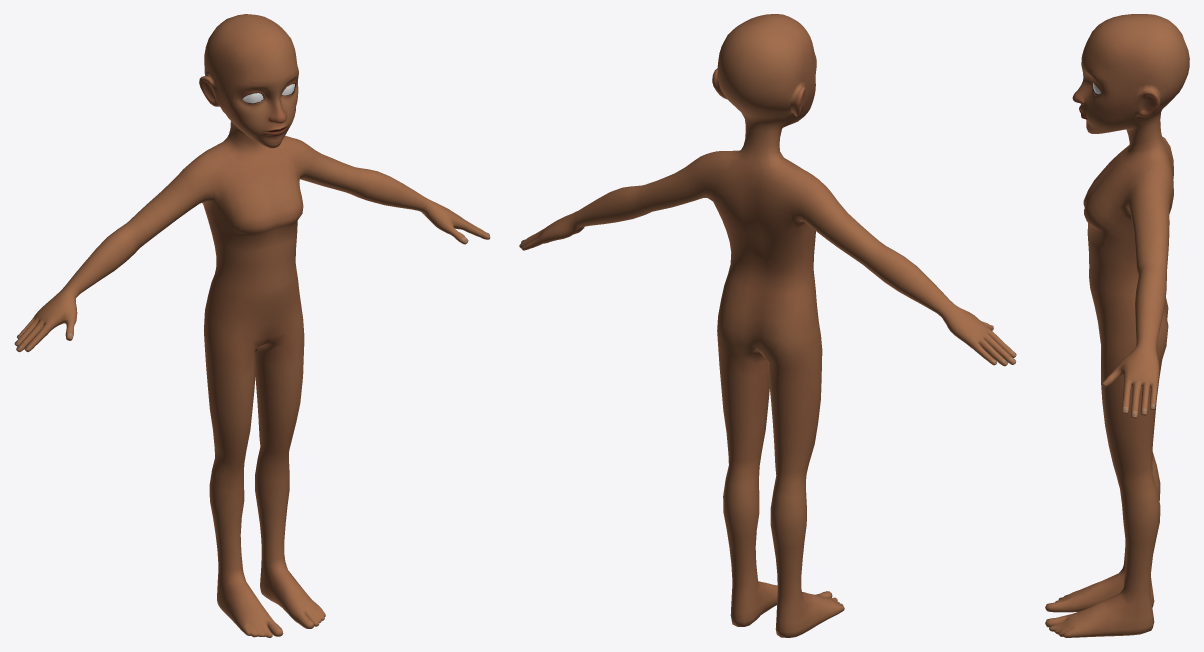
Rendered from frame_0005.glb.
The picture shows the model from 3 angles, left to right: view 1: azimuth 30°, elevation 25°; view 2: azimuth 150°, elevation 25°; view 3: azimuth 270°, elevation 25°; orthographic projection. The views are drawn at different scales.
Visible parts, largest first — view 1: frame_0005_head_geo; view 2: frame_0005_head_geo; view 3: frame_0005_head_geo.
Boxes of the visible parts, x1=… form: frame_0005_head_geo: x1=14, y1=14, x2=490, y2=637; frame_0005_head_geo: x1=519, y1=14, x2=1016, y2=637; frame_0005_head_geo: x1=1045, y1=14, x2=1189, y2=637.
Bounding box in the file's own units: 1.28 × 1.5 × 0.3271.
4 materials, 2 textured.
